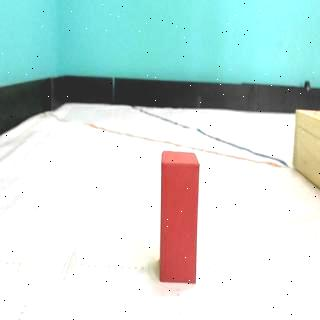redbox: (160, 153, 199, 285)
